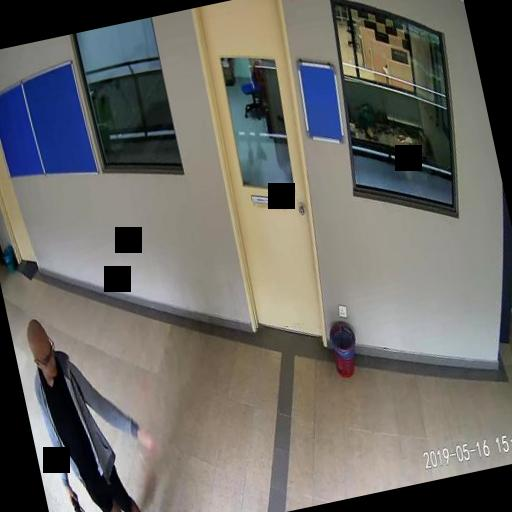Handgun: (67, 485, 94, 512)
